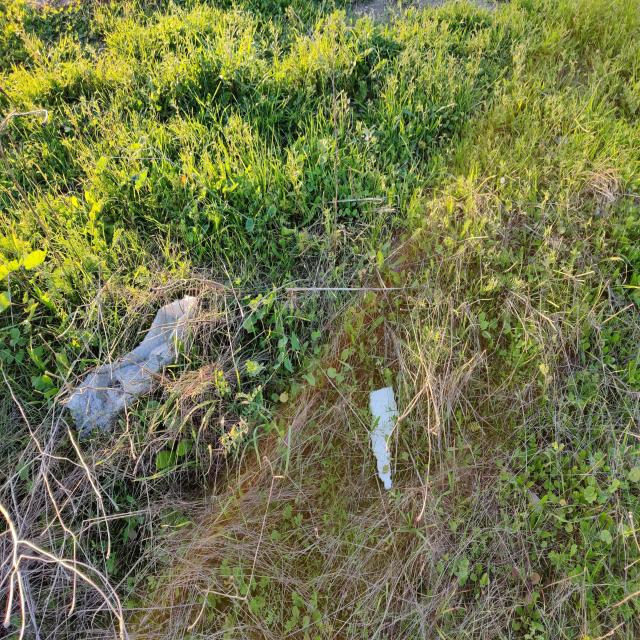litter: (65, 295, 197, 438)
